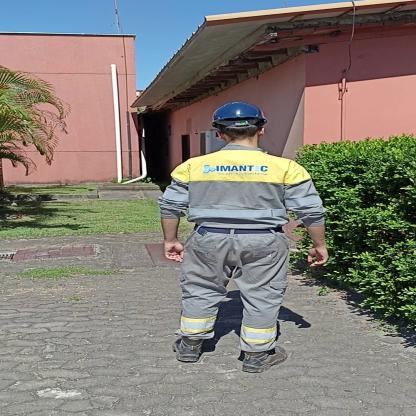Capacete: (211, 99, 268, 120)
